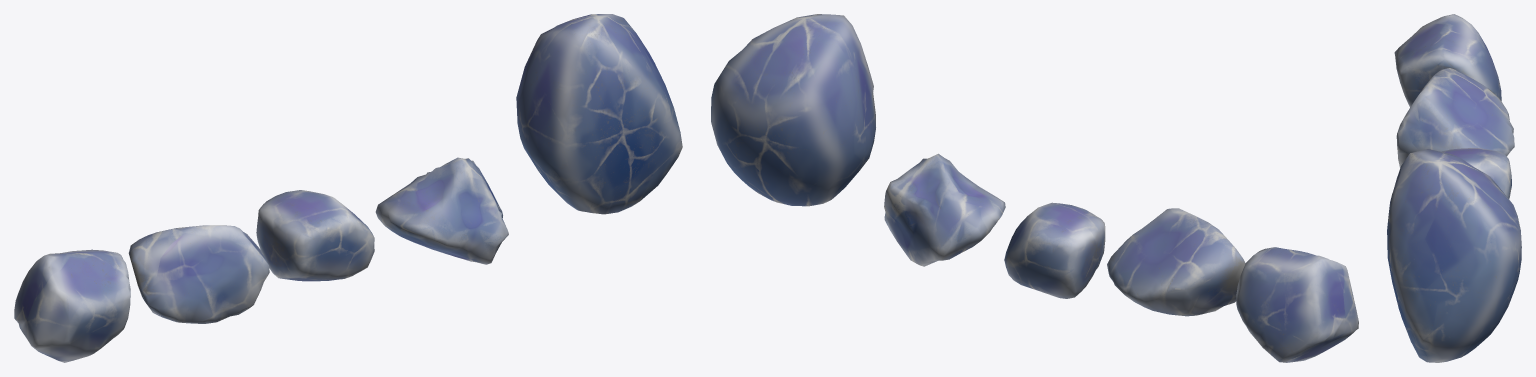
File: Rocks.FBX
3 views of the same model, side by side, from view 1: azimuth 30°, elevation 25°; view 2: azimuth 150°, elevation 25°; view 3: azimuth 270°, elevation 25° (orthographic). The views are drawn at different scales.
Visible parts, largest first — view 1: GeoSphere005, GeoSphere001, GeoSphere002, GeoSphere004, GeoSphere003; view 2: GeoSphere005, GeoSphere002, GeoSphere001, GeoSphere004, GeoSphere003; view 3: GeoSphere005, GeoSphere001, GeoSphere002, GeoSphere003.
Part boxes in pixels (x1,y1,x2,y2): GeoSphere005: (516,14,682,214); GeoSphere001: (128,225,269,323); GeoSphere002: (14,249,130,362); GeoSphere004: (375,157,508,264); GeoSphere003: (256,190,374,281); GeoSphere005: (711,14,875,206); GeoSphere002: (1236,247,1358,362); GeoSphere001: (1107,208,1245,316); GeoSphere004: (884,153,1005,266); GeoSphere003: (1004,202,1105,298); GeoSphere005: (1387,149,1521,362); GeoSphere001: (1396,68,1514,168); GeoSphere002: (1394,14,1501,107); GeoSphere003: (1441,148,1511,198).
Bounding box in the file's own units: 134 × 43.75 × 24.74.
Materials: 1 (1 with a texture image).
